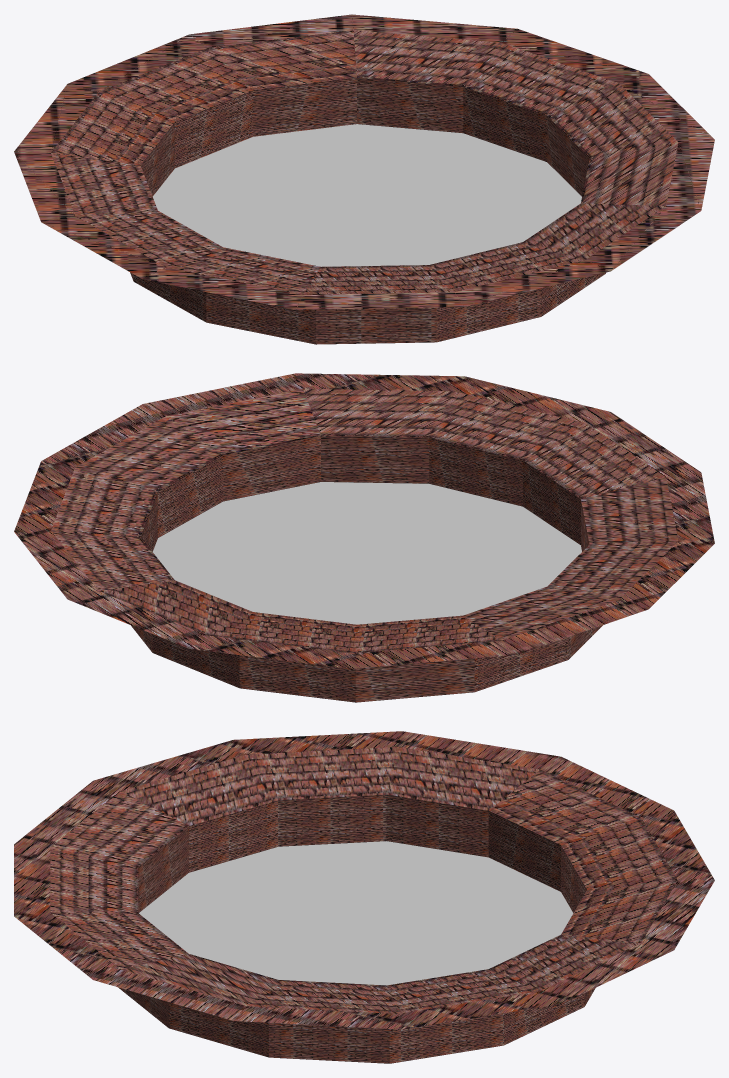
The model's file is гавно ебаное пупы бля.fbx.
The picture shows the model from 3 angles, top to bottom: view 1: azimuth 30°, elevation 25°; view 2: azimuth 150°, elevation 25°; view 3: azimuth 270°, elevation 25°; orthographic projection.
Visible parts, largest first — view 1: Cylinder; view 2: Cylinder; view 3: Cylinder.
Boxes of the visible parts, box(x1,y1,x2,y2) form: Cylinder: box(14, 14, 714, 344); Cylinder: box(14, 373, 714, 702); Cylinder: box(14, 731, 714, 1063).
Size of the model in its own units: 396 by 47.46 by 393.
